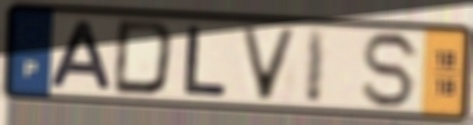A: (47, 18, 115, 93)
D: (109, 18, 178, 99)
I: (303, 27, 329, 106)
L: (180, 23, 230, 99)
S: (359, 29, 424, 111)
V: (237, 24, 302, 103)
